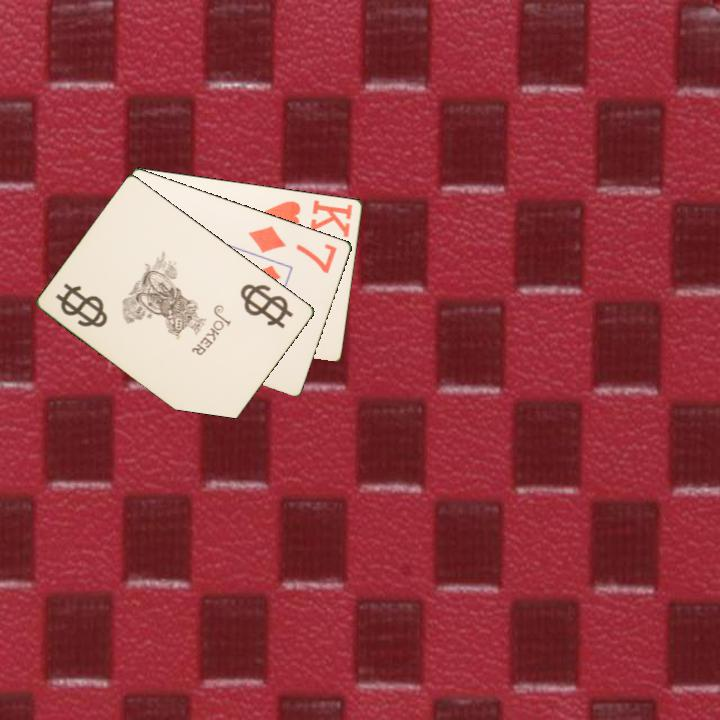7d: (245, 222, 340, 276)
JK: (52, 279, 111, 331), (241, 284, 288, 322)
Kh: (261, 196, 356, 240)
